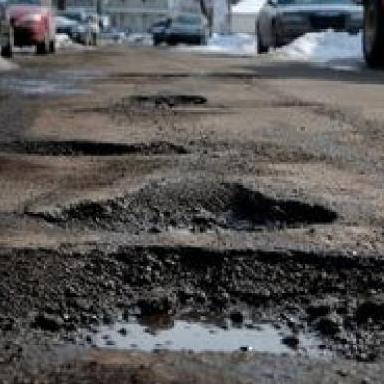pothole: (0, 237, 384, 373), (68, 174, 346, 239), (0, 125, 203, 162), (131, 84, 212, 113)
